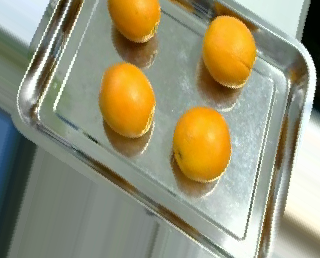Orange: (98, 60, 155, 139), (173, 106, 231, 183), (201, 13, 257, 87), (105, 0, 161, 41)
